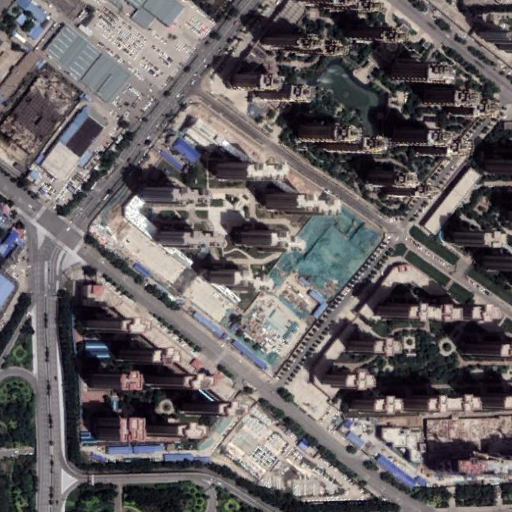cw: (270, 200, 384, 322)
